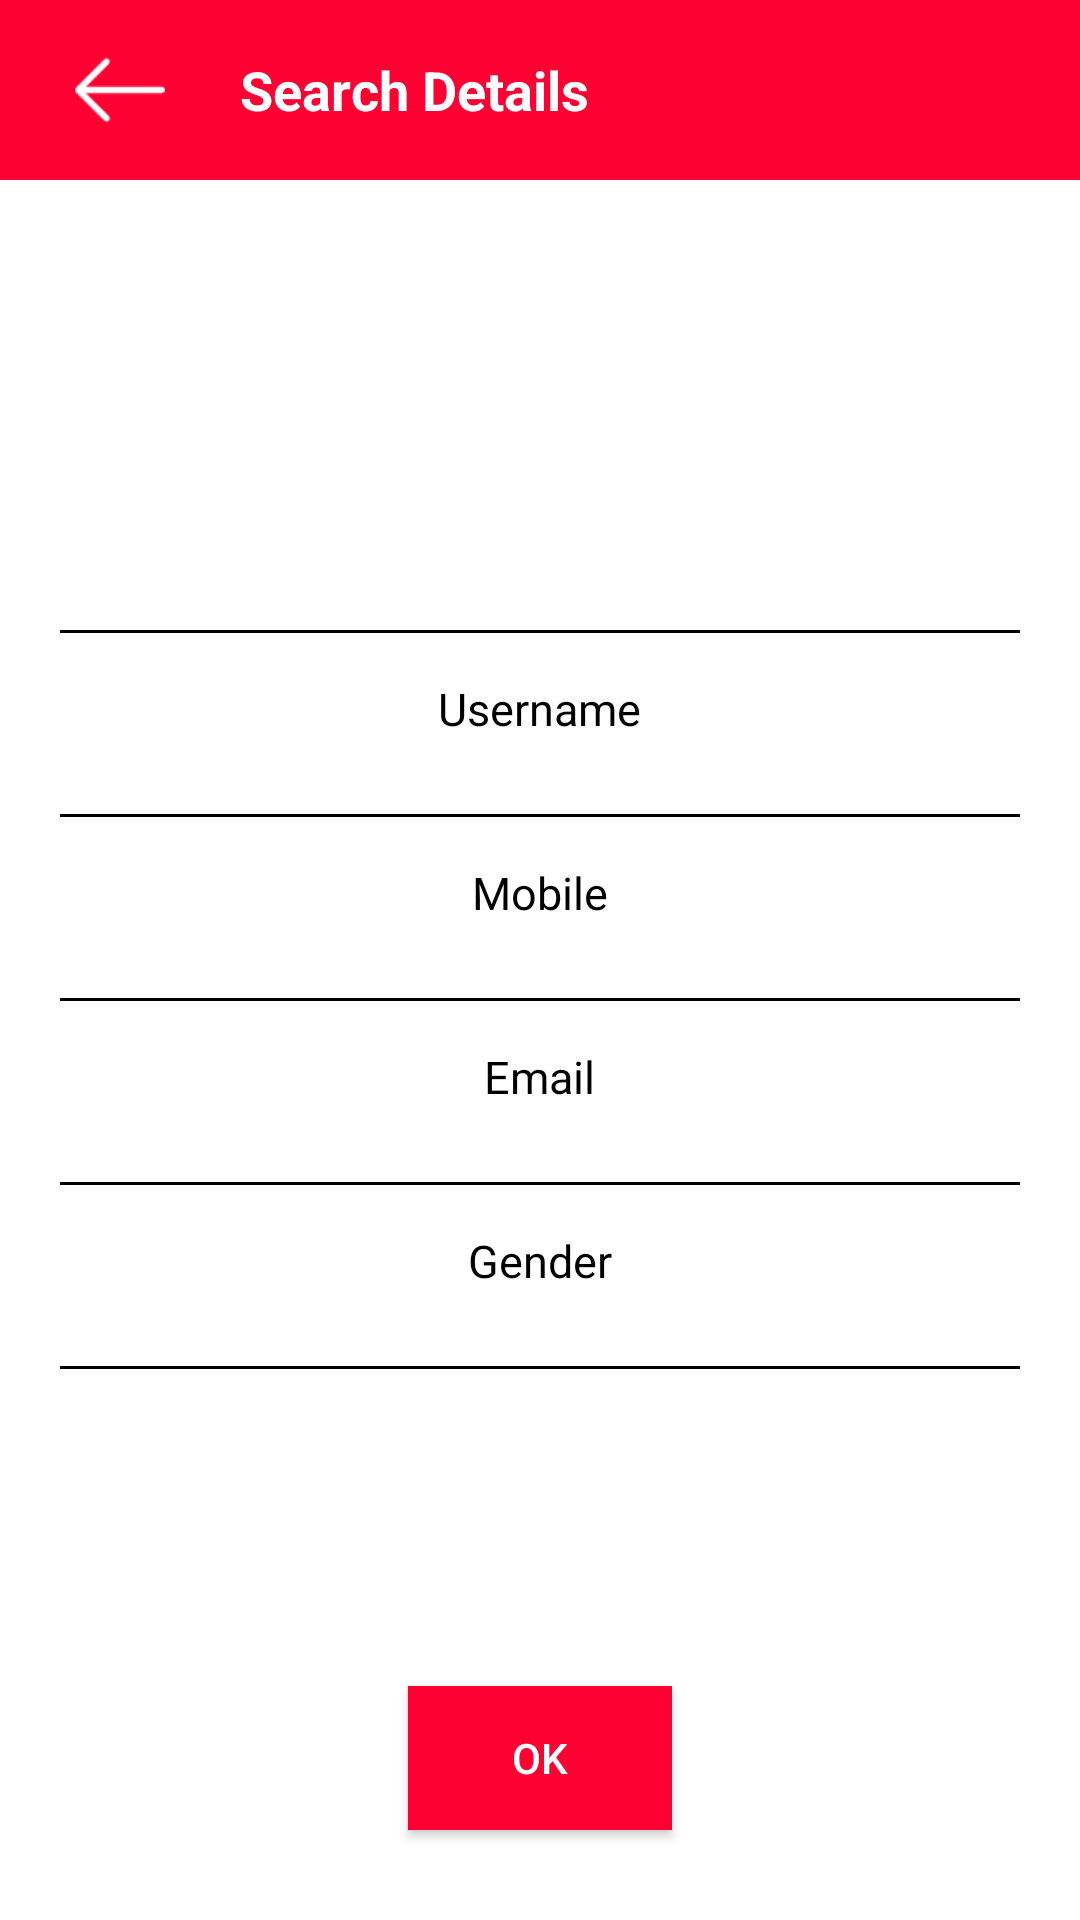

Screen size 1080x1920. Icon name, then its box in pixels as (x1, y1, x2, y2):
back arrow: (75, 57, 165, 123)
